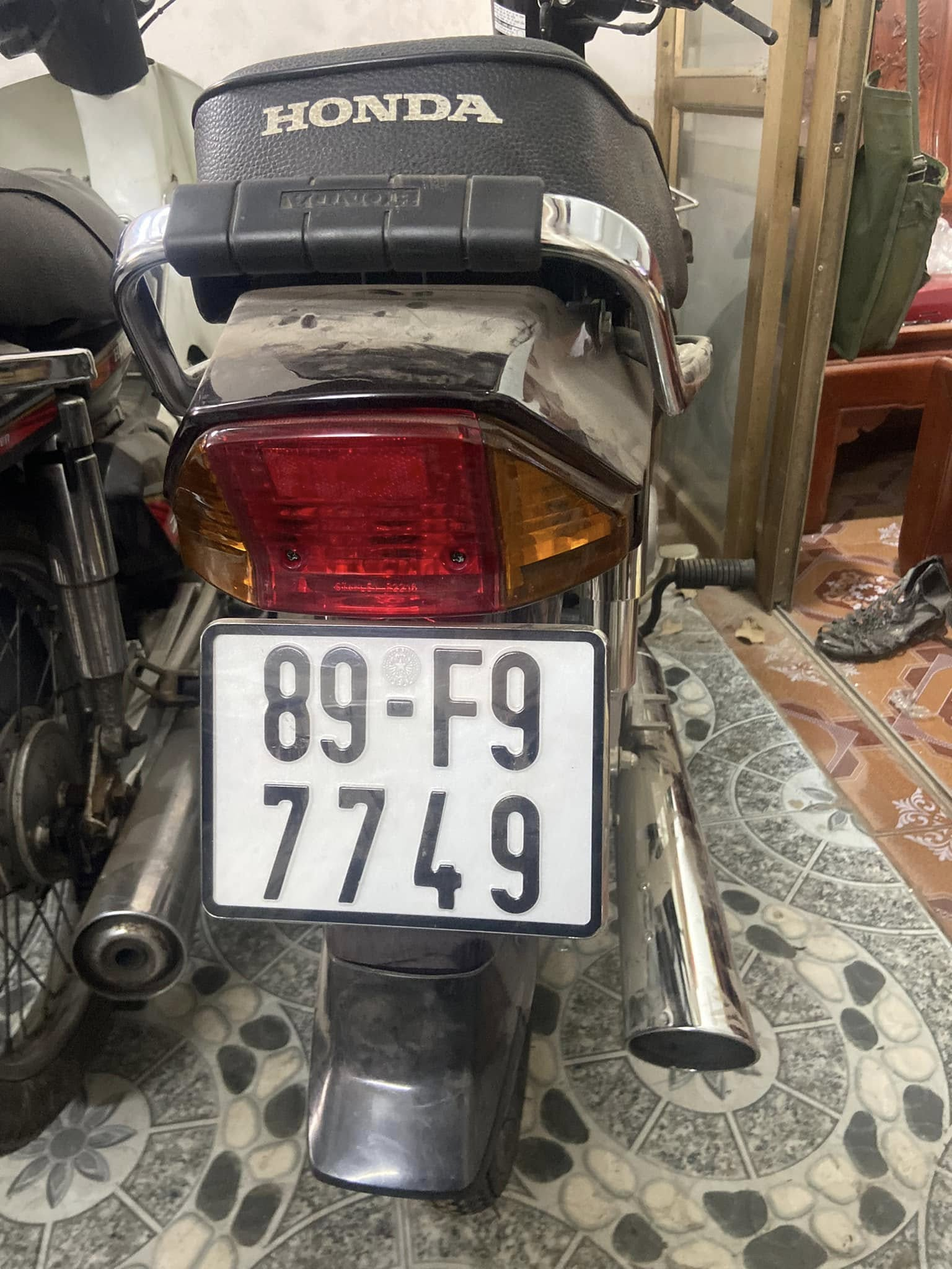bien_so: (189, 594, 626, 948)
